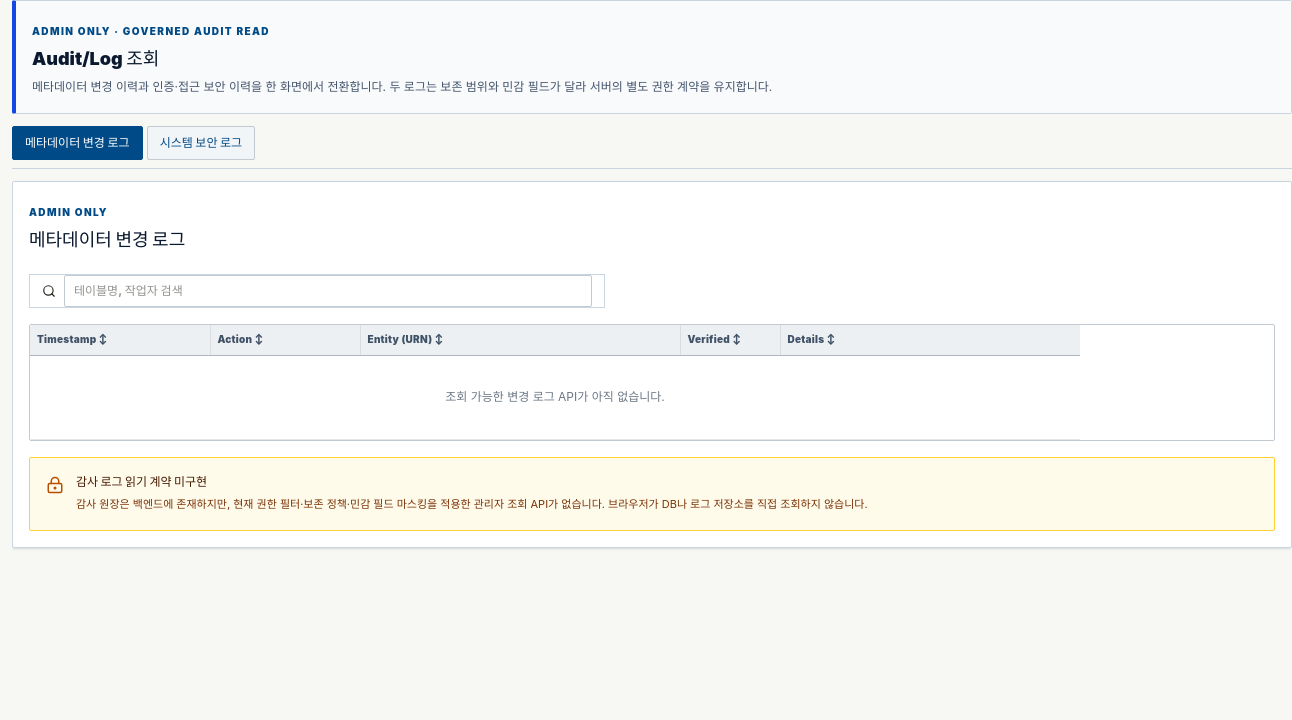
AuditLogsAdmin › switches the governed metadata and security log views without inventing rows
Expected: the text "조회 가능한 변경 로그 API가 아직 없습니다." is shown, [30,356,1080,440]
Click the tab "시스템 보안 로그": (201, 143) [147,126,255,160]
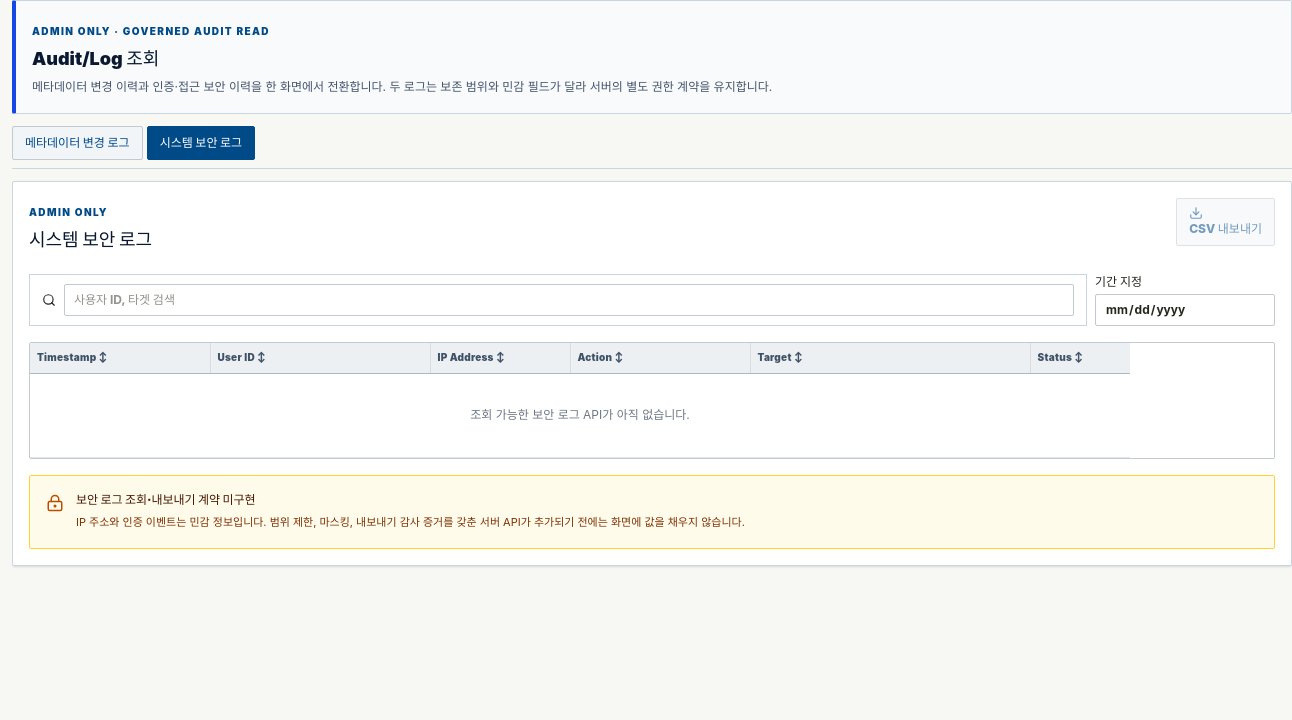
Result: the text "조회 가능한 보안 로그 API가 아직 없습니다." is shown at [30,374,1130,458]
